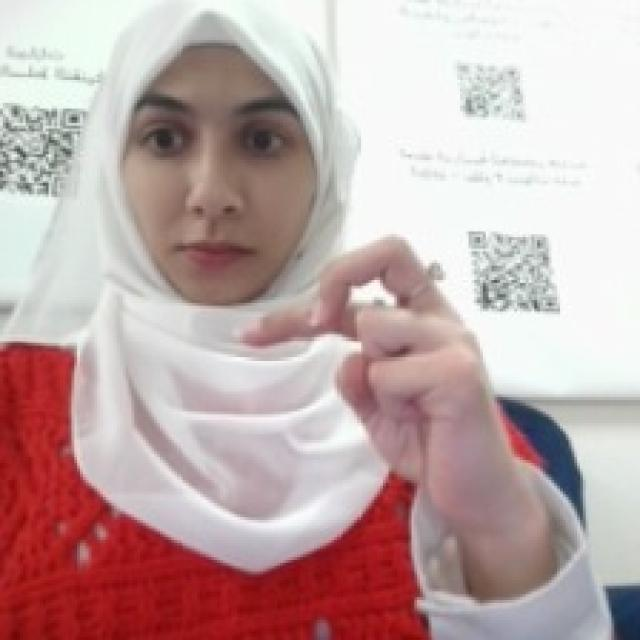sunday: (234, 220, 500, 486)
